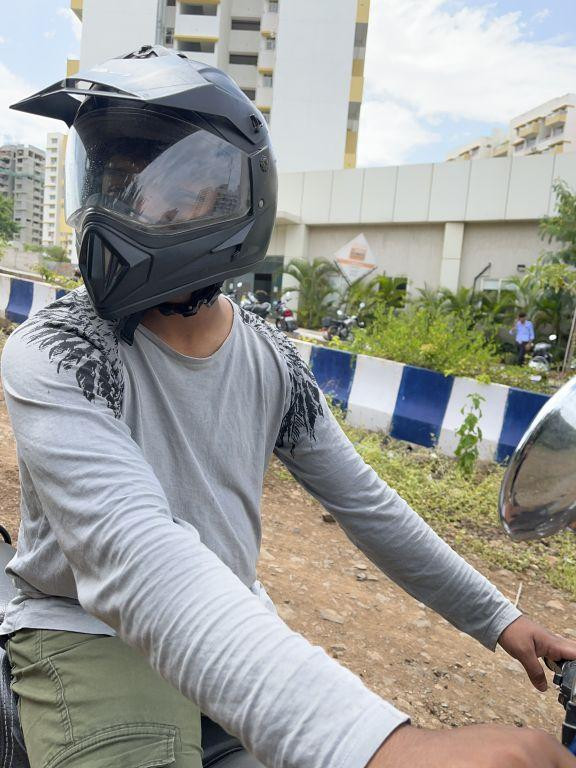helmet: (0, 27, 287, 332)
